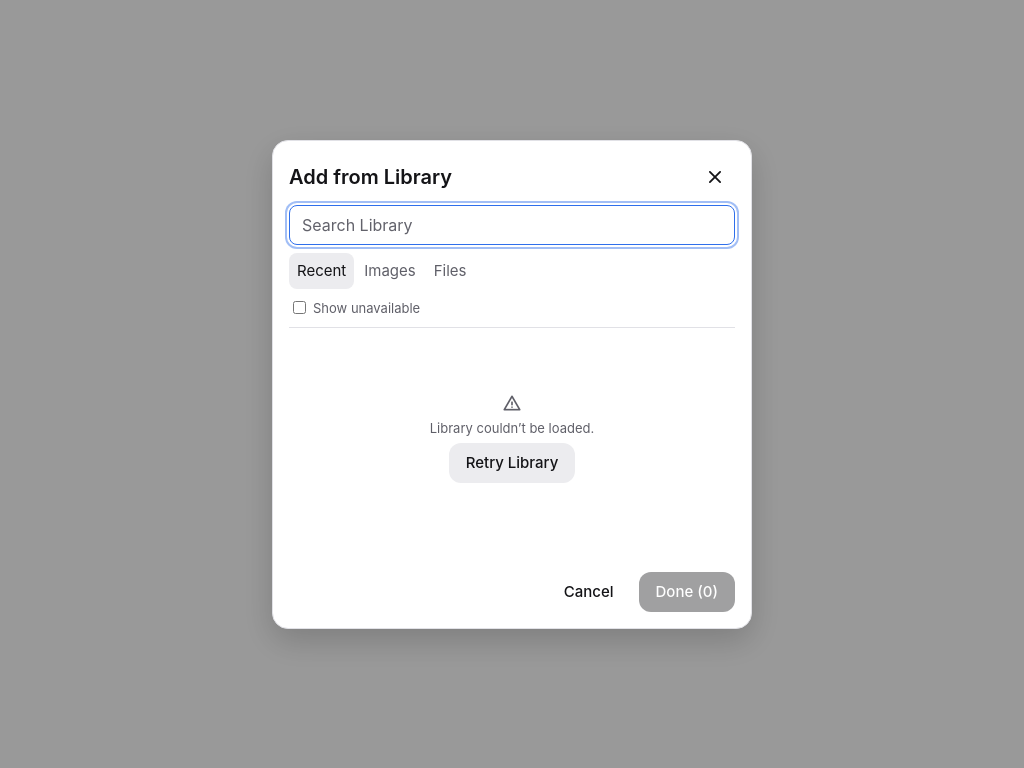
Test case: LibraryPicker › retries an initial failure without changing the current query
This screenshot has width=1024, height=768.
Expected: the text "Library couldn’t be loaded." is shown, x1=430 y1=416 x2=594 y2=438
Click the button "Retry Library".
click(512, 462)  # box x1=449 y1=442 x2=575 y2=482
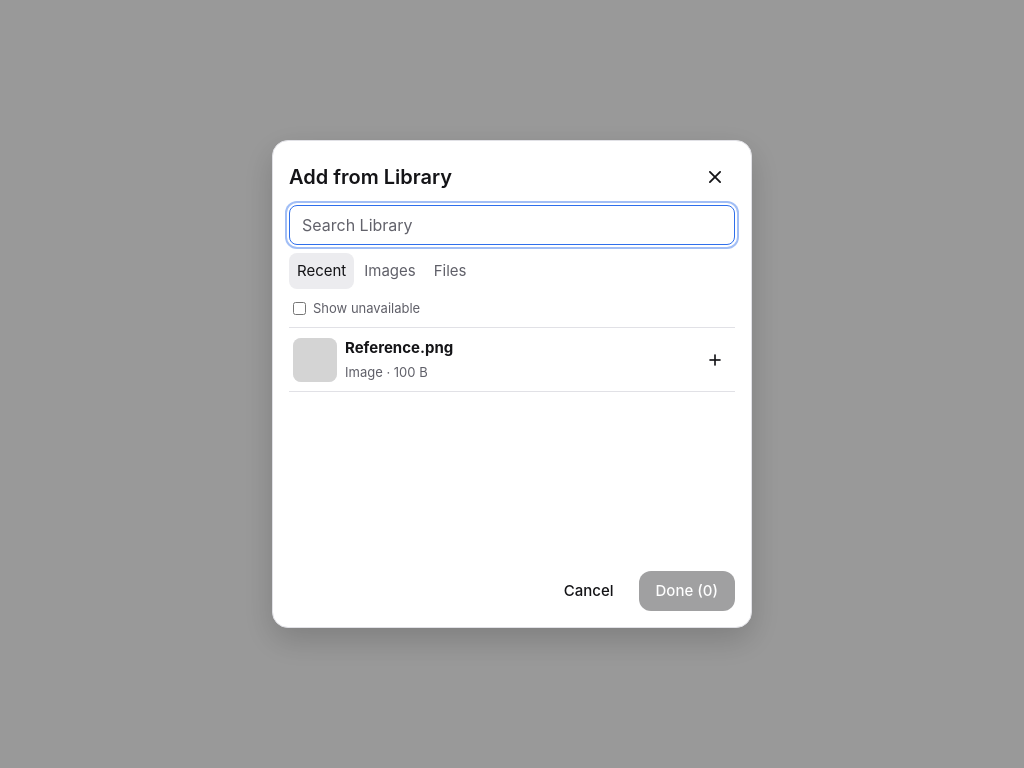
Expected: the text "Reference.png" is shown, x1=345 y1=338 x2=453 y2=356
